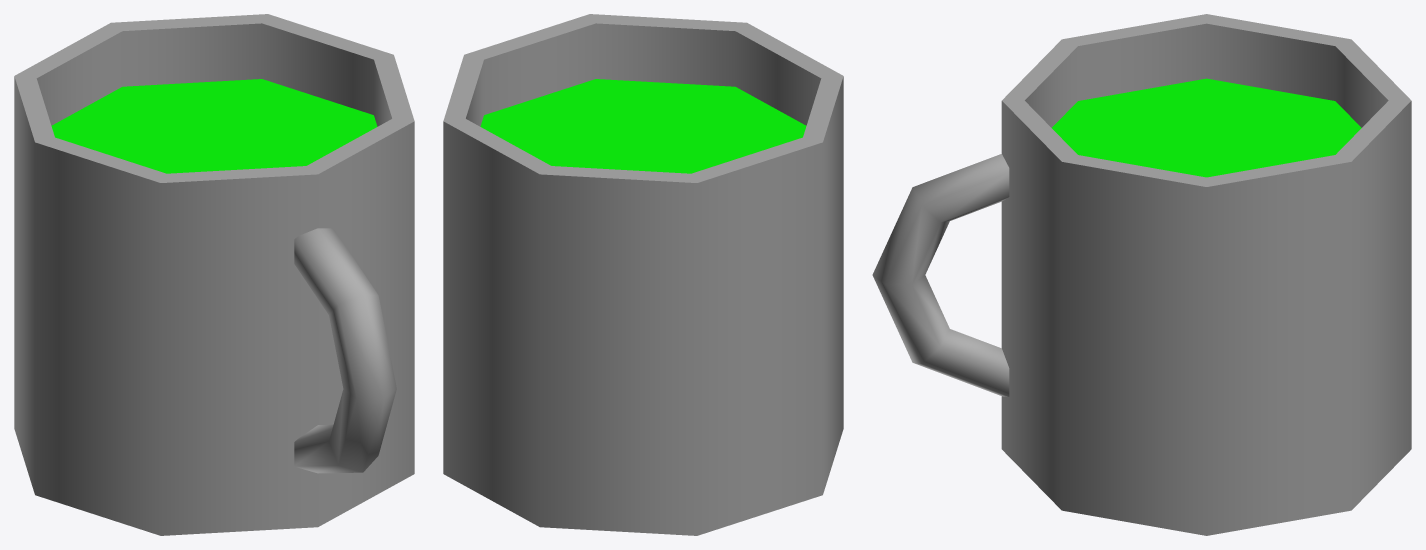
File: Set_07_Mug_With_Coffee.fbx
3 renders of one model, left to right at view 1: azimuth 30°, elevation 25°; view 2: azimuth 150°, elevation 25°; view 3: azimuth 270°, elevation 25°, orthographic.
Visible parts, largest first — view 1: Set_07_Mug_With_Coffee; view 2: Set_07_Mug_With_Coffee; view 3: Set_07_Mug_With_Coffee.
Part boxes in pixels (<box>): Set_07_Mug_With_Coffee: <box>14,14,414,535</box>; Set_07_Mug_With_Coffee: <box>443,14,843,535</box>; Set_07_Mug_With_Coffee: <box>872,14,1411,535</box>.
Size of the model in its own units: 13.35 by 12.54 by 17.57.
